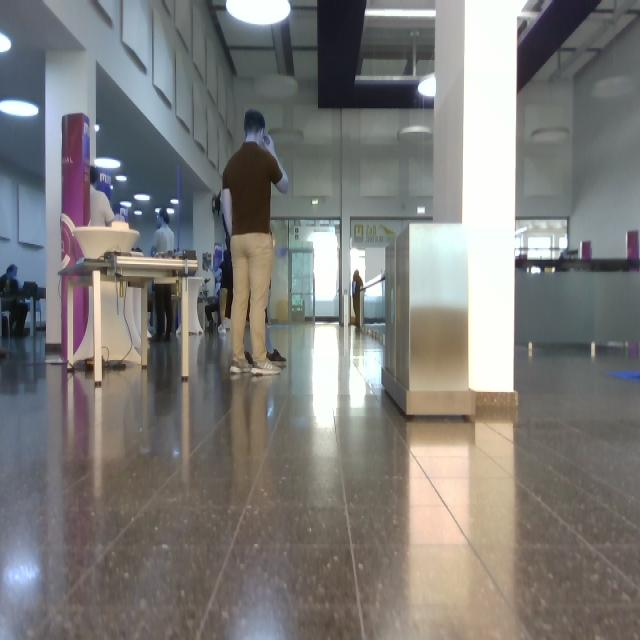door: (289, 221, 339, 321), (289, 249, 314, 322)
light bulb: (226, 1, 291, 26), (256, 74, 297, 101), (530, 128, 570, 144), (366, 9, 436, 16), (419, 73, 435, 97), (95, 158, 121, 169), (1, 33, 11, 53), (116, 176, 127, 182), (167, 208, 175, 214), (171, 198, 179, 204), (96, 124, 100, 132)
person: (222, 110, 288, 374), (154, 284, 173, 341), (152, 210, 174, 257), (352, 270, 363, 328)
pillar: (434, 1, 520, 392), (46, 53, 96, 344)
table: (59, 216, 198, 385)
tiled floor: (1, 326, 640, 640)
trash bin: (382, 225, 471, 414)
